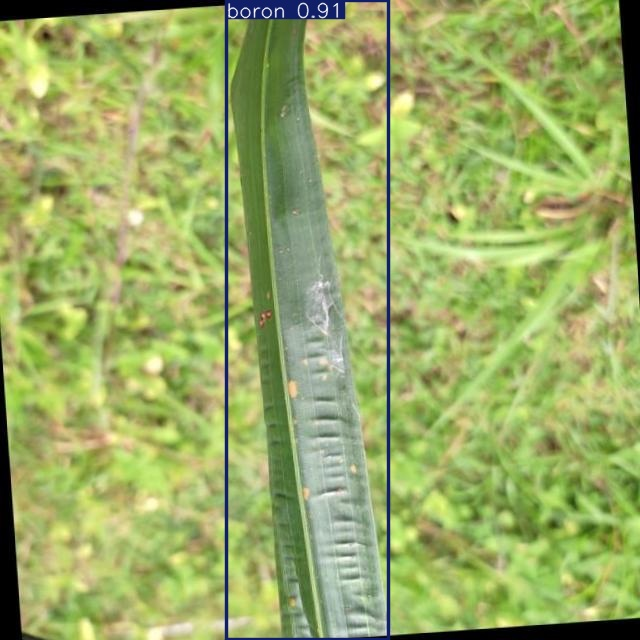nitrogen: (227, 0, 388, 640)
